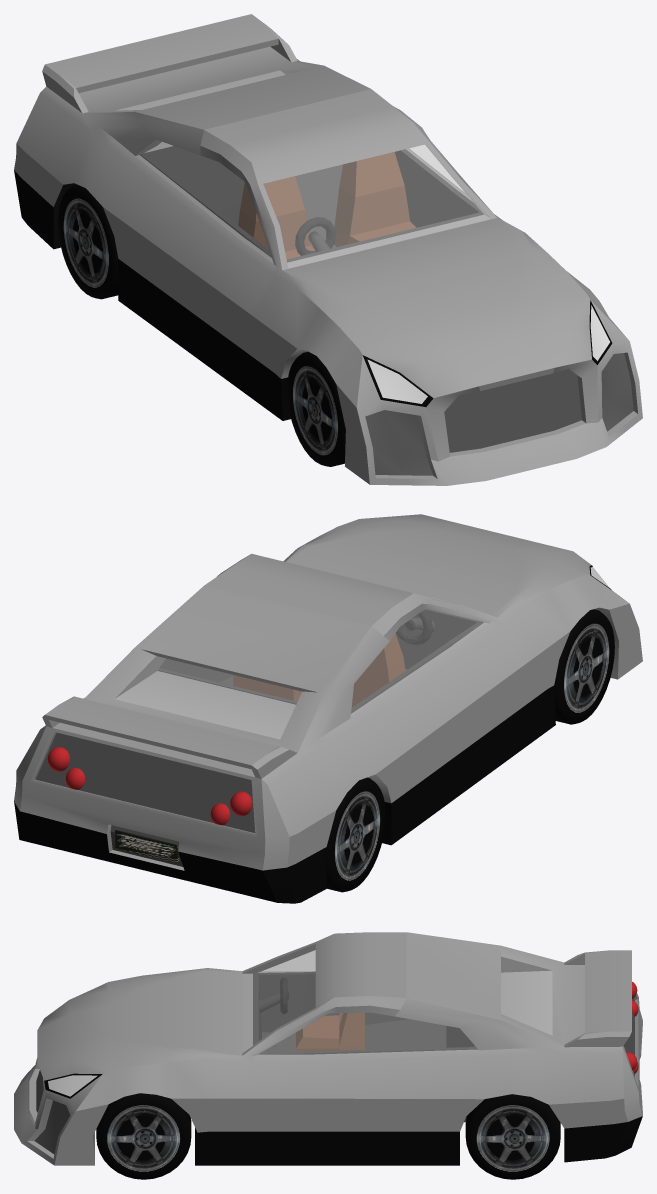
The model's file is GTR.fbx.
3 views of the same model, one above another, from view 1: azimuth 30°, elevation 25°; view 2: azimuth 150°, elevation 25°; view 3: azimuth 270°, elevation 25° (orthographic). The views are drawn at different scales.
Visible parts, largest first — view 1: gtr07, back_right.010, front_right.010, steeringwheel.008; view 2: gtr07, front_right.010, back_right.010, steeringwheel.008; view 3: gtr07, front_left.010, back_left.010.
Boxes of the visible parts, <box> form: gtr07: <box>14,14,642,485</box>; back_right.010: <box>58,184,118,299</box>; front_right.010: <box>287,351,345,466</box>; steeringwheel.008: <box>295,217,335,255</box>; gtr07: <box>14,514,642,903</box>; front_right.010: <box>554,609,614,724</box>; back_right.010: <box>326,777,385,892</box>; steeringwheel.008: <box>396,610,432,645</box>; gtr07: <box>14,932,642,1165</box>; front_left.010: <box>96,1093,191,1179</box>; back_left.010: <box>465,1094,560,1179</box>.
Size of the model in its own units: 330 by 134 by 94.93.
